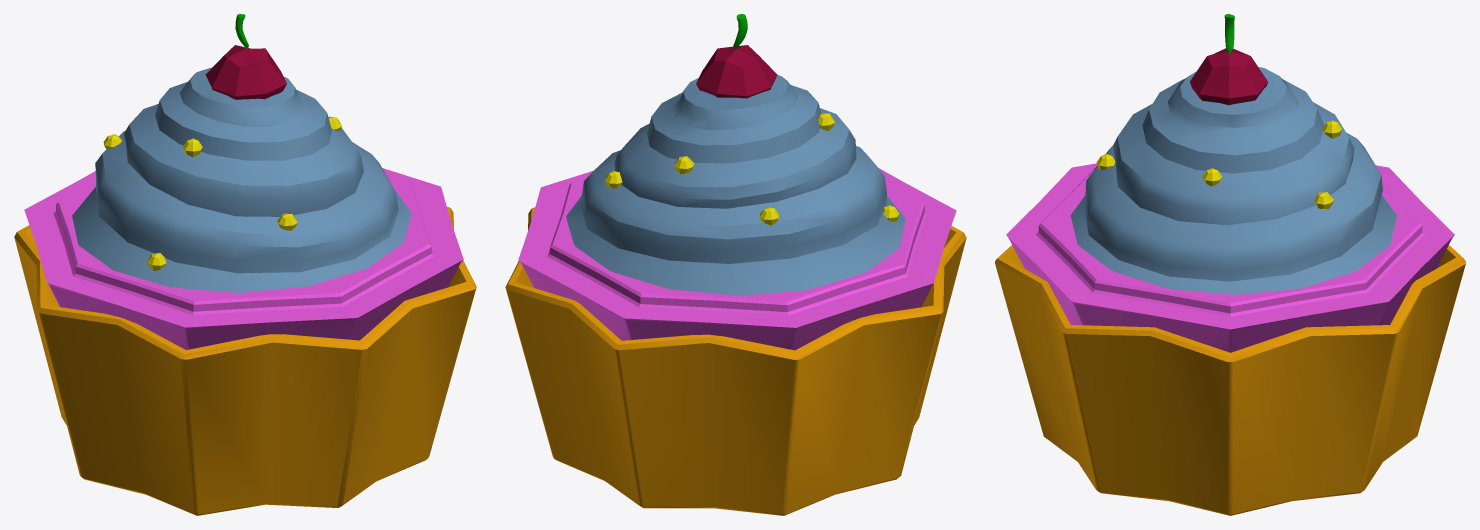
File: cupcake2.fbx
3 views of the same model, side by side, from view 1: azimuth 30°, elevation 25°; view 2: azimuth 150°, elevation 25°; view 3: azimuth 270°, elevation 25° (orthographic).
Parts seen in each view (by area): view 1: cupcake2; view 2: cupcake2; view 3: cupcake2.
Part boxes in pixels (bbox=[...]): cupcake2: bbox=[14, 14, 476, 515]; cupcake2: bbox=[505, 14, 966, 515]; cupcake2: bbox=[995, 14, 1465, 515].
Size of the model in its own units: 10.24 by 10.09 by 10.24.
